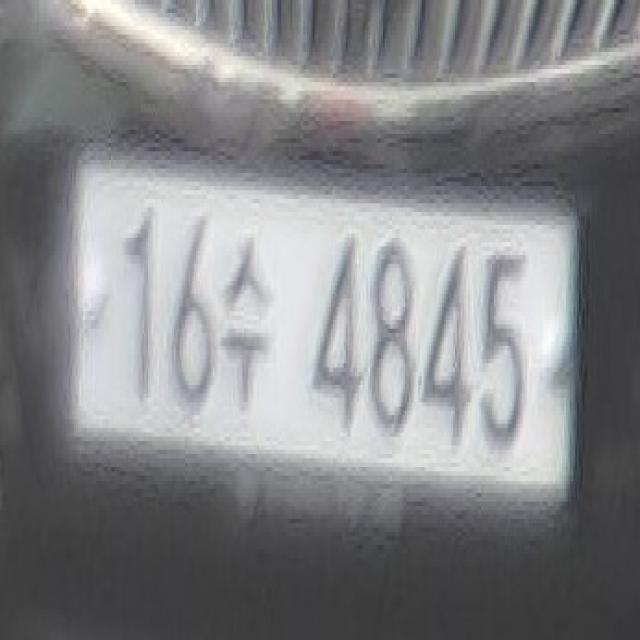1: (118, 195, 163, 415)
4: (418, 225, 475, 458), (309, 220, 364, 446)
5: (475, 225, 533, 458)
6: (166, 203, 216, 415)
8: (364, 220, 416, 446)
license_plate: (52, 134, 584, 558)
su: (218, 221, 274, 424)
